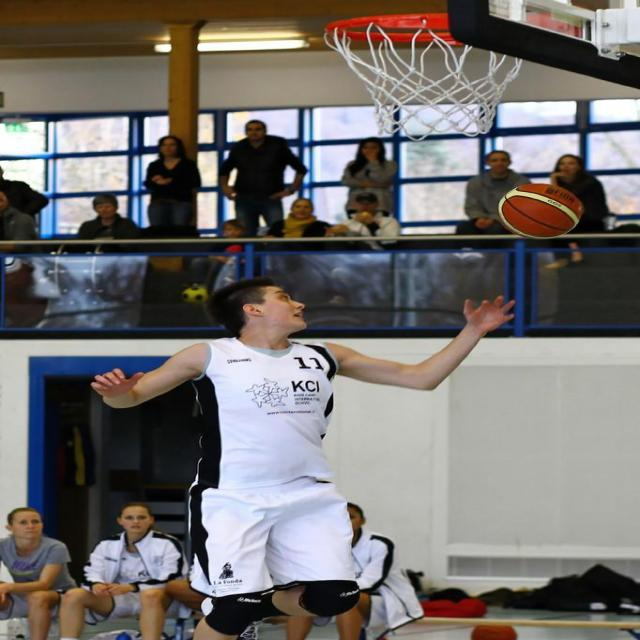rim: (502, 183, 583, 238)
